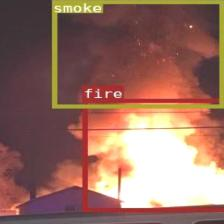fire: (81, 97, 224, 210)
smoke: (52, 0, 223, 107)
